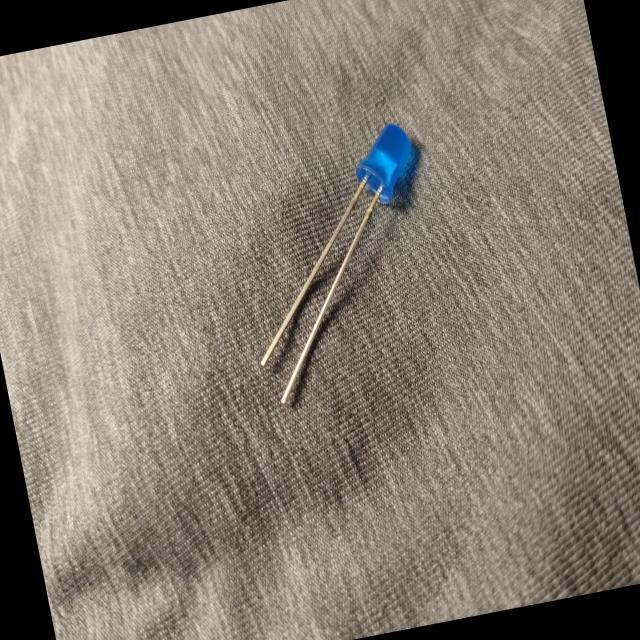blue_led: (218, 117, 458, 410)
